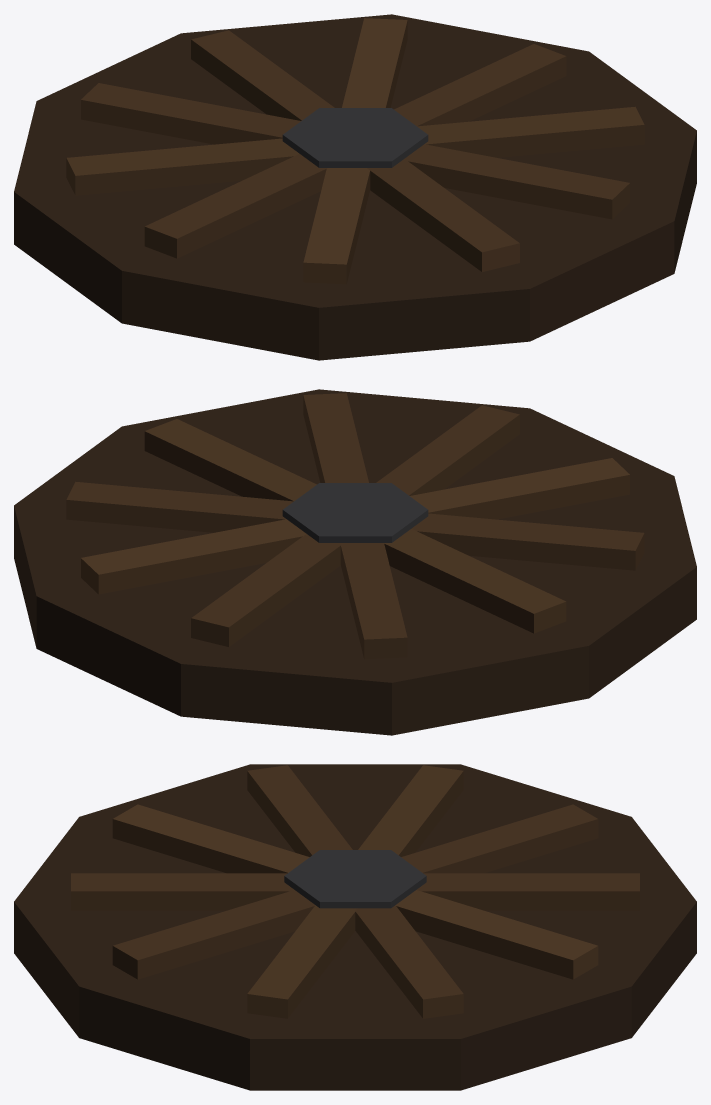
Rendered from wheel.glb.
3 views of the same model, one above another, from view 1: azimuth 30°, elevation 25°; view 2: azimuth 150°, elevation 25°; view 3: azimuth 270°, elevation 25° (orthographic). The views are drawn at different scales.
Parts seen in each view (by area): view 1: Wheel; view 2: Wheel; view 3: Wheel.
Part boxes in pixels (bbox=[...]): Wheel: bbox=[14, 14, 696, 360]; Wheel: bbox=[14, 389, 696, 735]; Wheel: bbox=[14, 764, 696, 1090].
Bounding box in the file's own units: 0.913 × 0.12 × 0.96.
